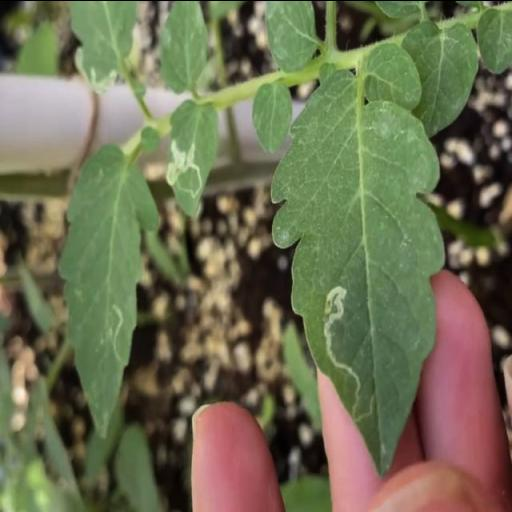Leaf Miner: (270, 69, 446, 483), (56, 142, 162, 436), (162, 93, 222, 216)
